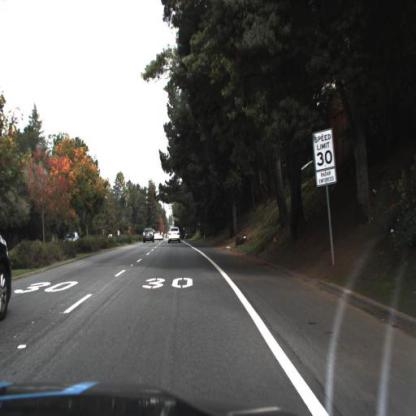car: (1, 202, 15, 336), (165, 227, 186, 250), (144, 224, 160, 247), (158, 231, 167, 245)
